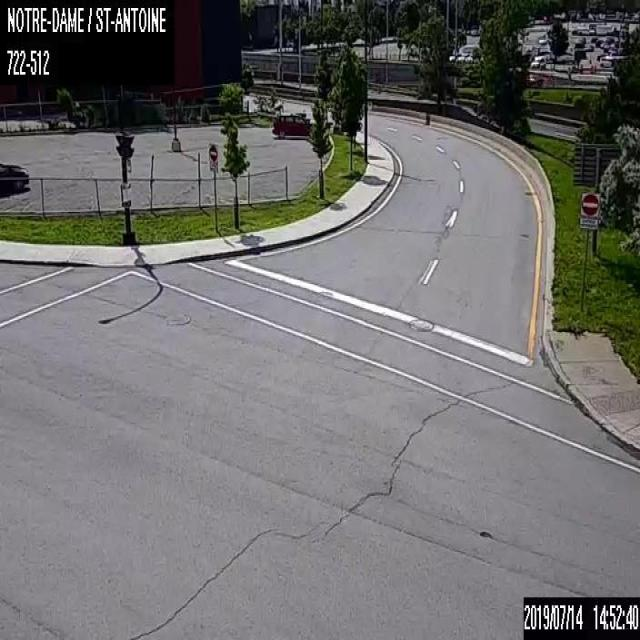vehicle: (272, 111, 315, 138), (0, 160, 29, 195)
